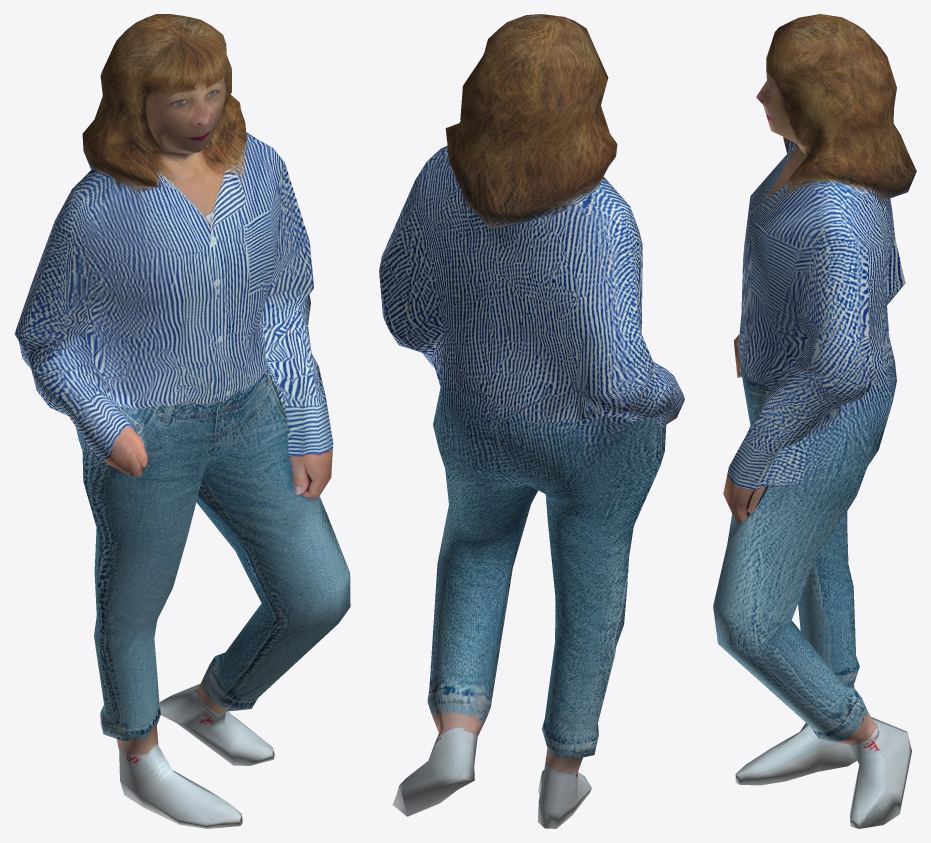
Rendered from tripo_light.glb.
3 views of the same model, side by side, from view 1: azimuth 30°, elevation 25°; view 2: azimuth 150°, elevation 25°; view 3: azimuth 270°, elevation 25° (orthographic). The views are drawn at different scales.
Parts seen in each view (by area): view 1: tripo_node_6a8d76a3-6755-4a07-aaee-09e9046c56fb; view 2: tripo_node_6a8d76a3-6755-4a07-aaee-09e9046c56fb; view 3: tripo_node_6a8d76a3-6755-4a07-aaee-09e9046c56fb.
Part boxes in pixels (x1,y1,x2,y2): tripo_node_6a8d76a3-6755-4a07-aaee-09e9046c56fb: (14, 14, 350, 828); tripo_node_6a8d76a3-6755-4a07-aaee-09e9046c56fb: (379, 14, 684, 828); tripo_node_6a8d76a3-6755-4a07-aaee-09e9046c56fb: (713, 14, 916, 828).
Bounding box in the file's own units: 0.3677 × 0.9995 × 0.2456.
Materials: 1 (1 with a texture image).
